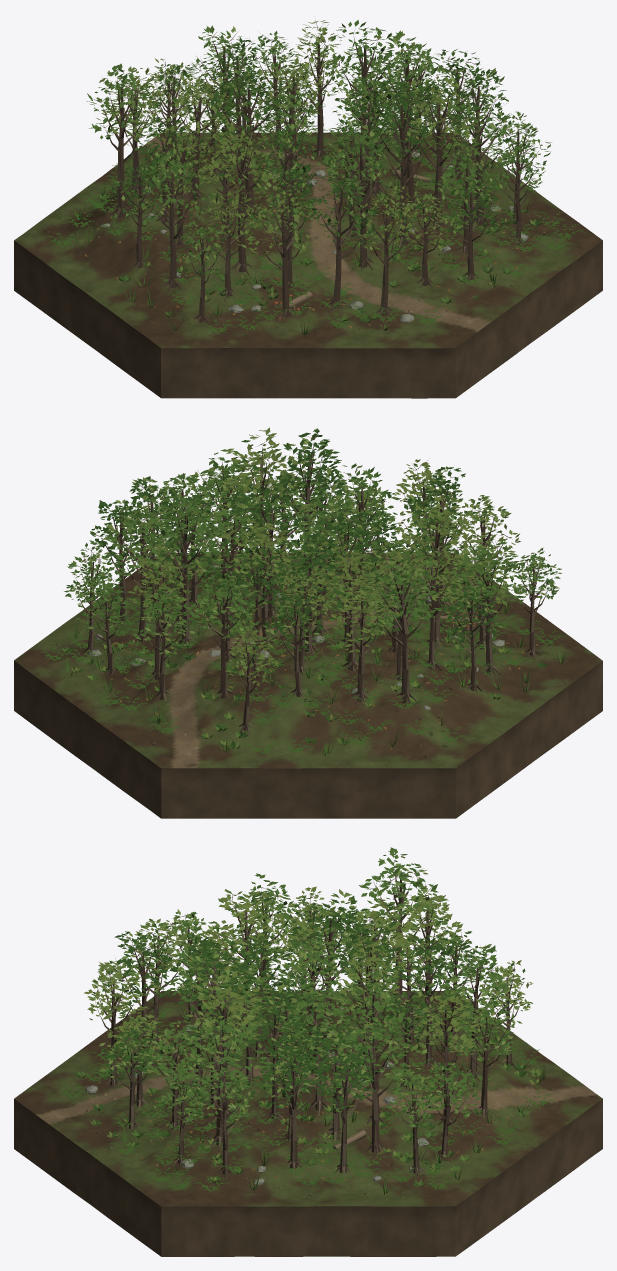
Rendered from Timber.glb.
3 views of the same model, one above another, from view 1: azimuth 30°, elevation 25°; view 2: azimuth 150°, elevation 25°; view 3: azimuth 270°, elevation 25° (orthographic).
Visible parts, largest first — view 1: Timber_Ground_Web, Timber_Decorations_Web; view 2: Timber_Ground_Web, Timber_Decorations_Web; view 3: Timber_Decorations_Web, Timber_Ground_Web.
Boxes of the visible parts, <box> form: Timber_Ground_Web: <box>14,132,602,398</box>; Timber_Decorations_Web: <box>44,20,586,335</box>; Timber_Ground_Web: <box>14,552,602,818</box>; Timber_Decorations_Web: <box>38,427,567,755</box>; Timber_Decorations_Web: <box>56,847,557,1194</box>; Timber_Ground_Web: <box>14,991,602,1256</box>.
Size of the model in its own units: 1.65 by 0.8198 by 1.91.
Materials: 16 (16 with a texture image).
